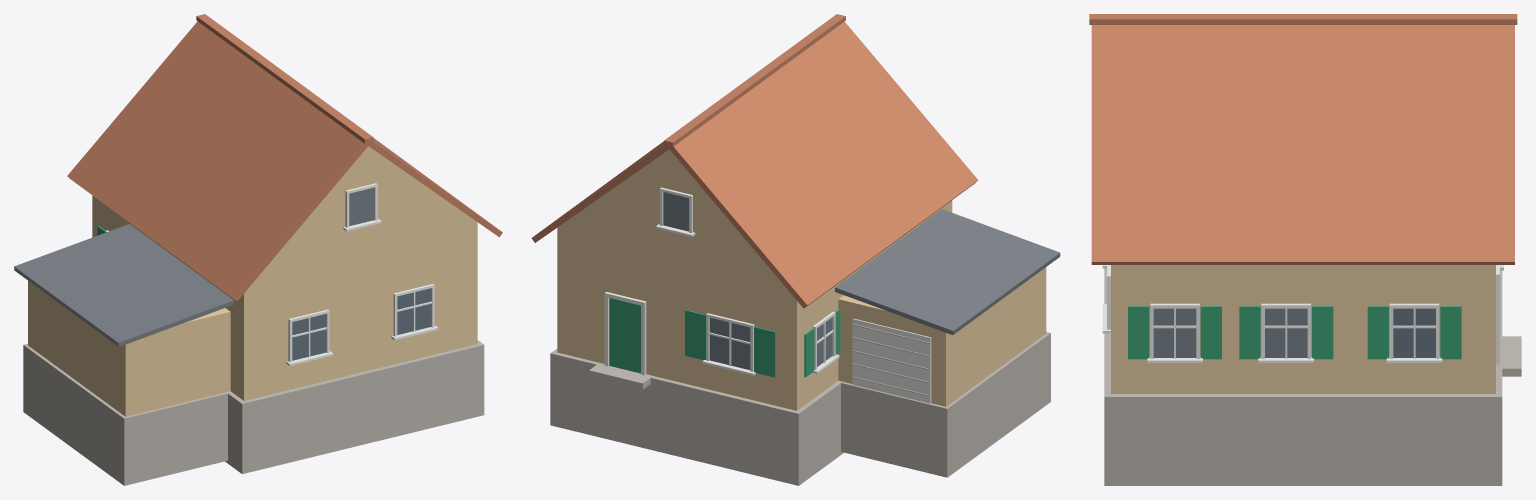
File: house_b.glb
3 renders of one model, left to right at view 1: azimuth 30°, elevation 25°; view 2: azimuth 150°, elevation 25°; view 3: azimuth 270°, elevation 25°, orthographic. The views are drawn at different scales.
Visible parts, largest first — view 1: house_b; view 2: house_b; view 3: house_b.
Boxes of the visible parts, box(x1,y1,x2,y2) form: house_b: box(14, 14, 502, 485); house_b: box(531, 14, 1060, 485); house_b: box(1089, 14, 1521, 485).
Size of the model in its own units: 12.57 by 10.17 by 10.1.
